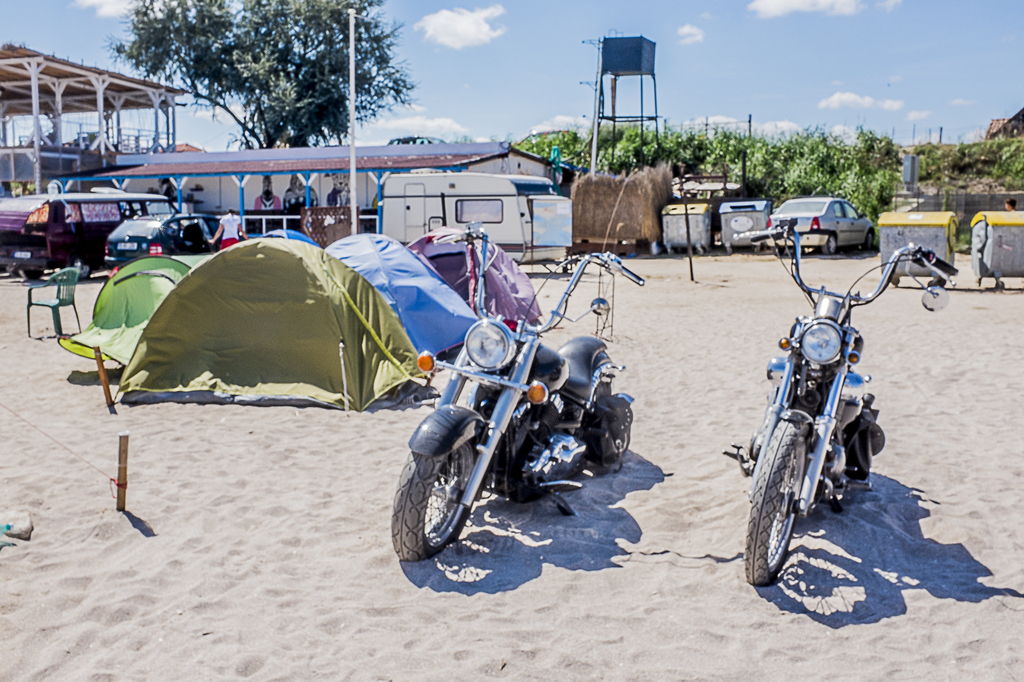motor: (407, 241, 641, 584), (723, 253, 900, 579)
